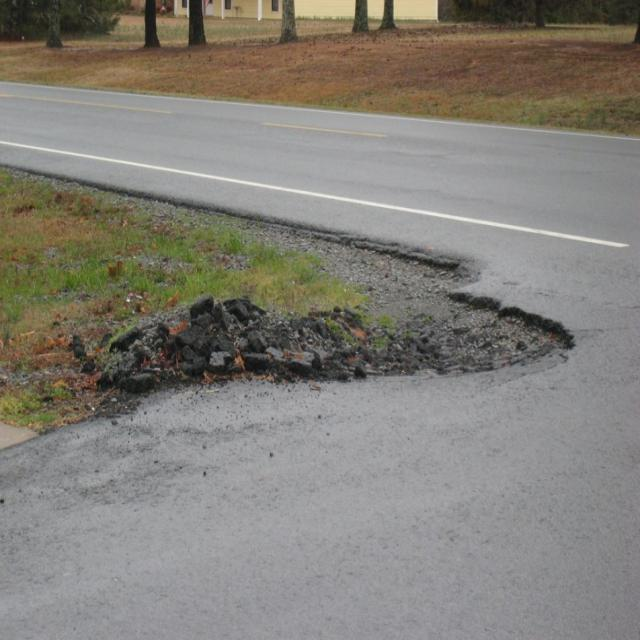Pothole: (7, 122, 640, 640)
